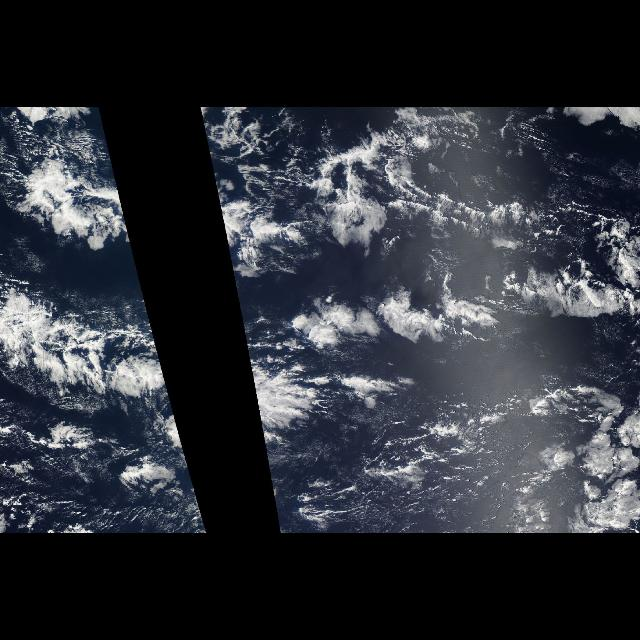Fish: (198, 110, 640, 448), (1, 264, 186, 452), (5, 110, 136, 262)
Flower: (272, 247, 636, 528)
Gravel: (290, 429, 516, 527)
